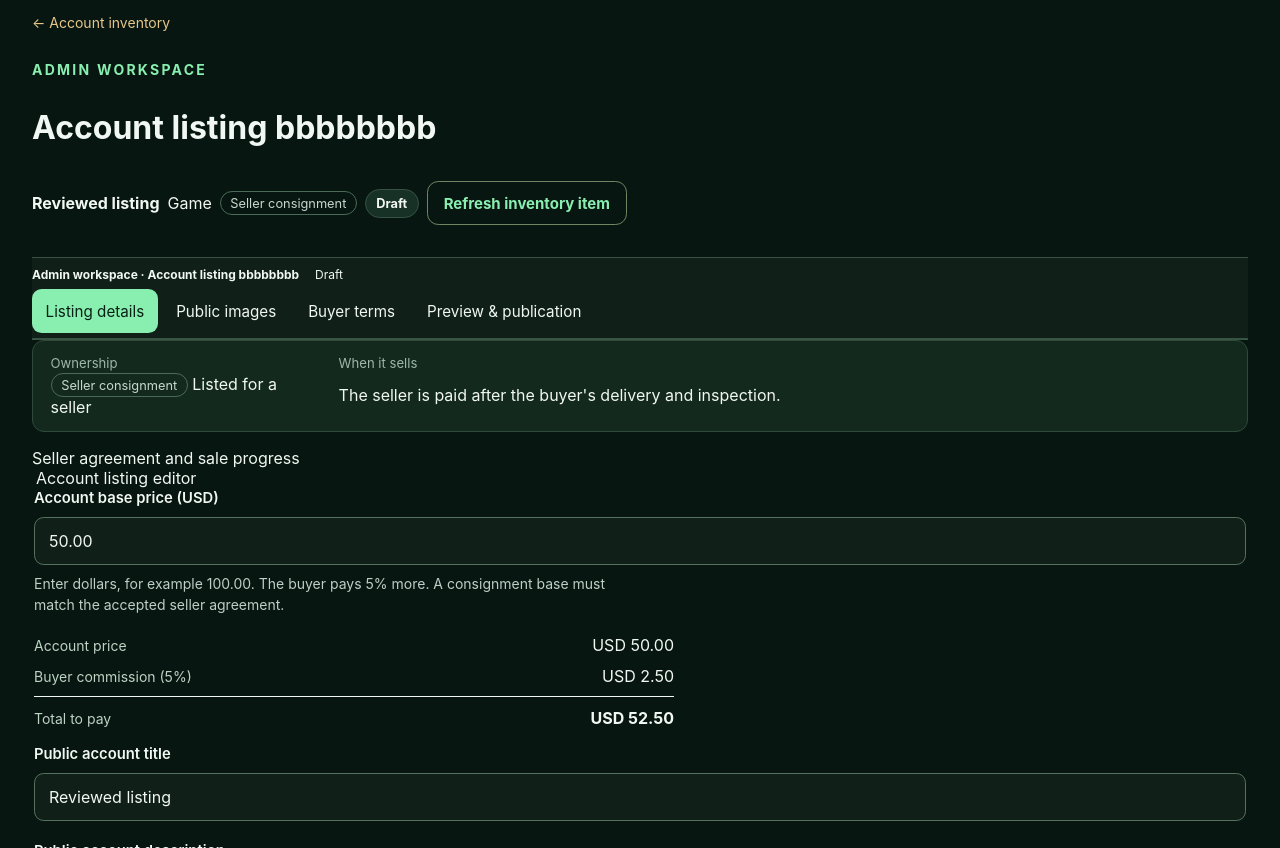
it: reveals the invalid listing section and preserves the other draft fields
Clear the field labelled "Public account title" at (640, 797), box x1=34 y1=773 x2=1246 y2=821
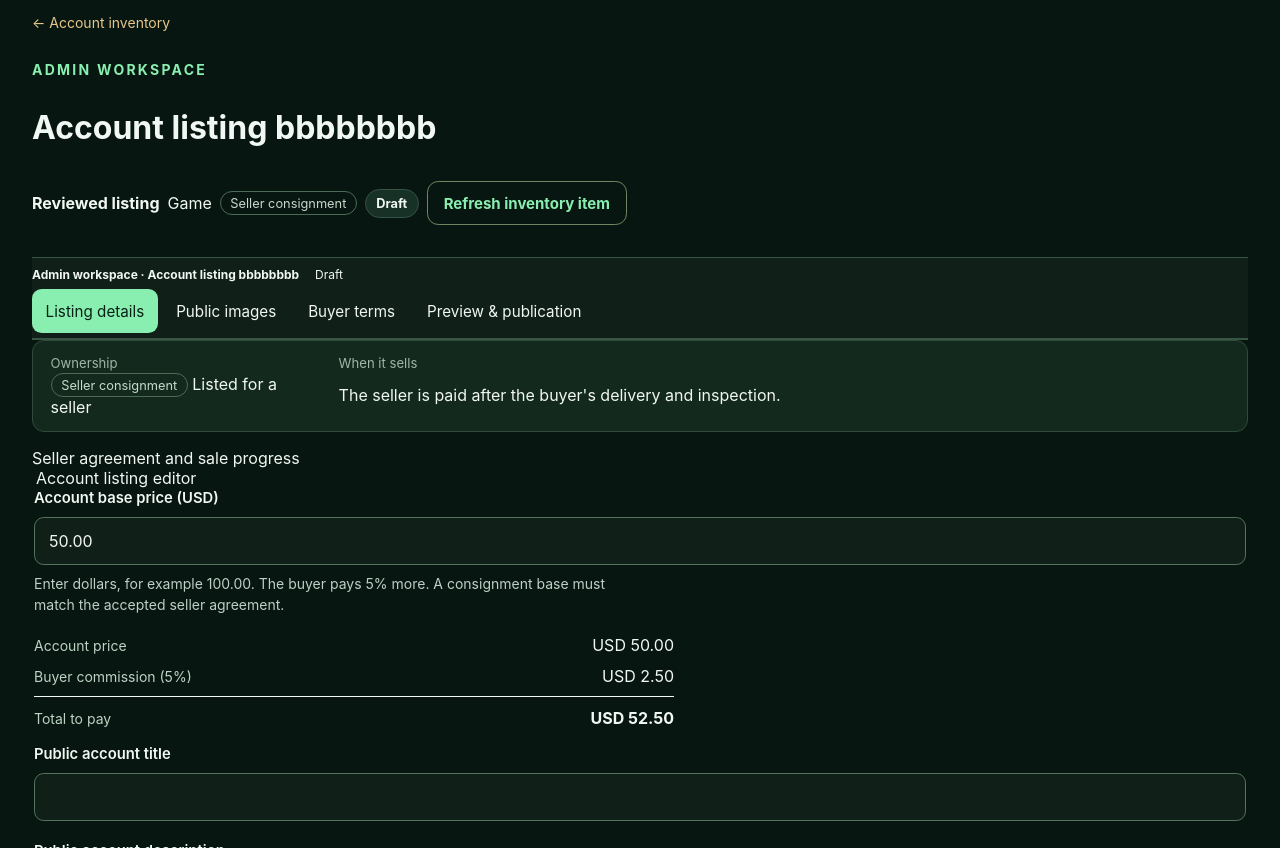
Click the link "Buyer terms" at (352, 311), box x1=308 y1=302 x2=395 y2=321
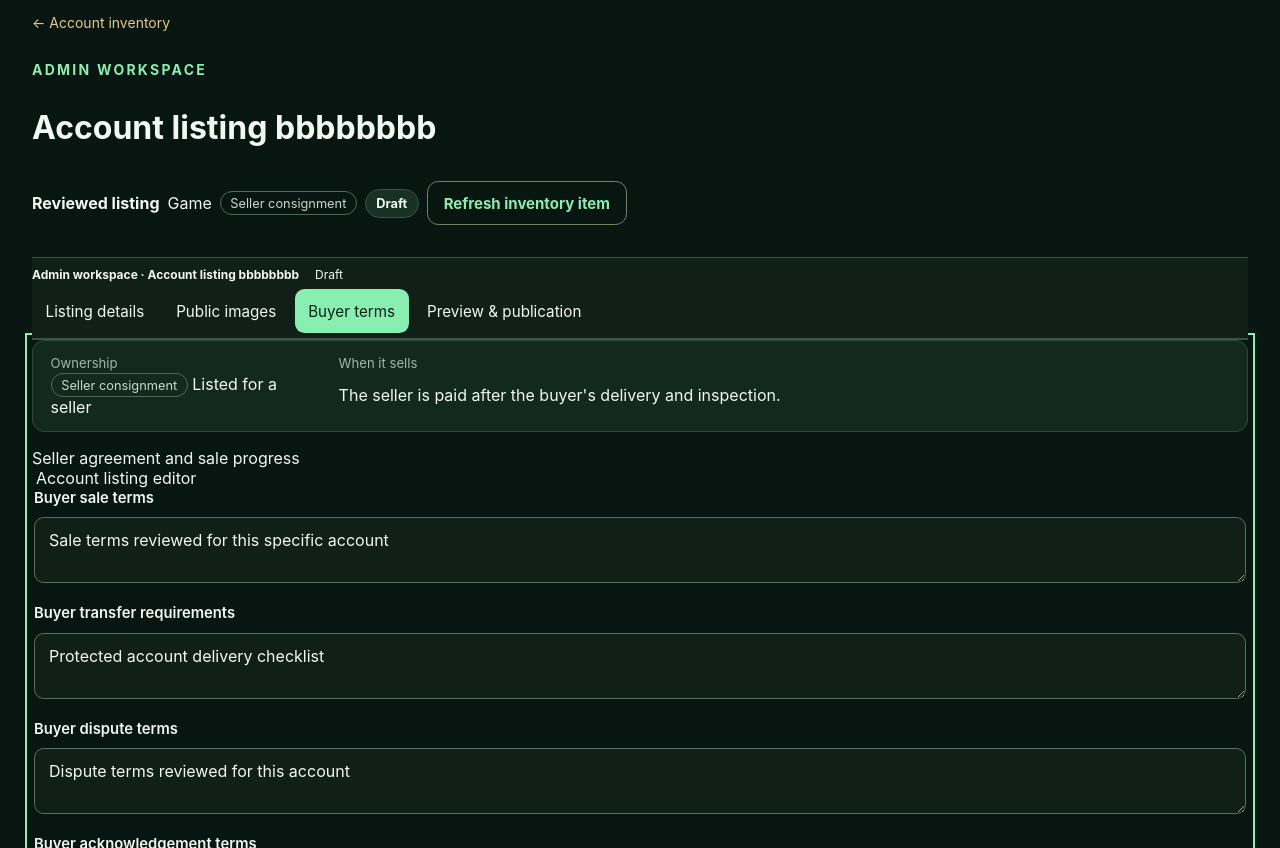
Replace the text in the text box labelled "Buyer sale terms" with "These terms stay while correcting the title." at (640, 550), box x1=34 y1=517 x2=1246 y2=583
(page scrolled)
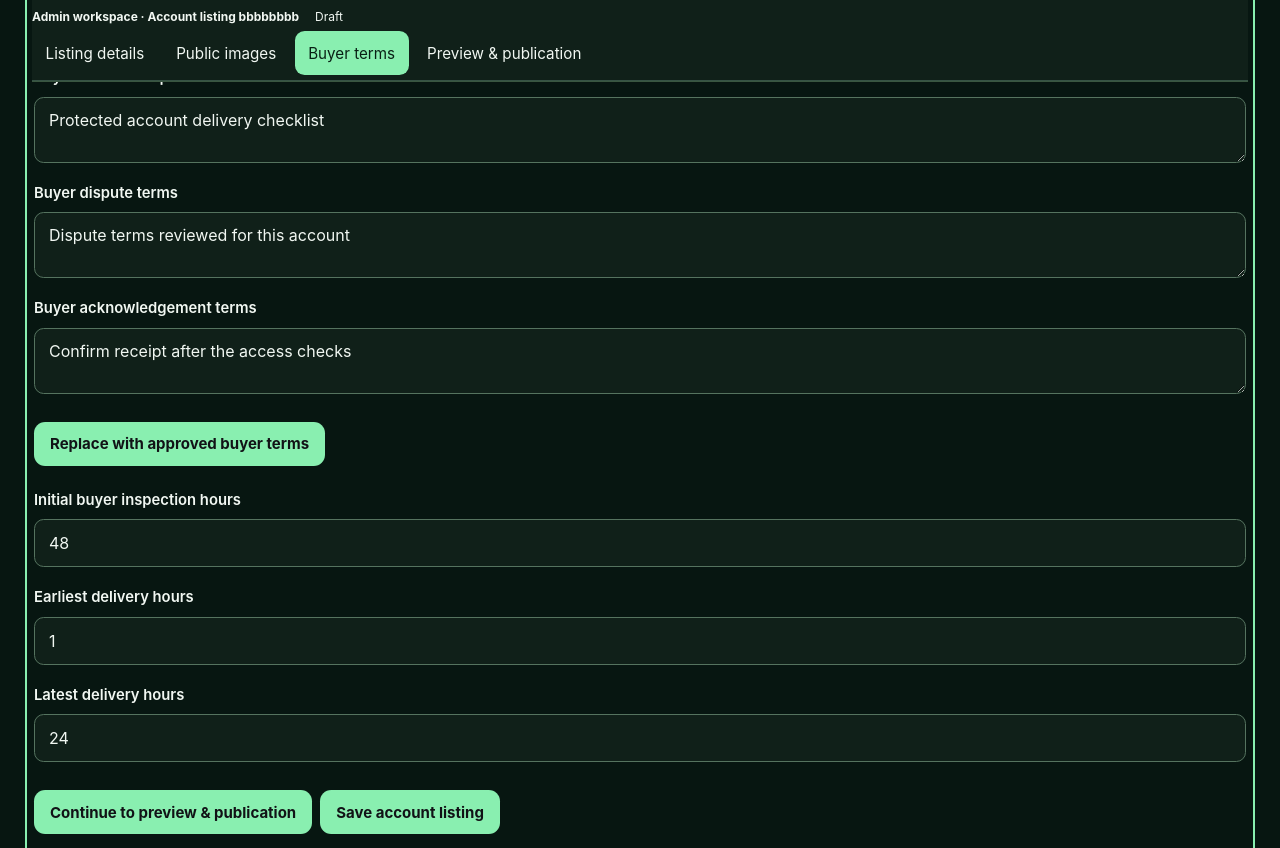
Click the button "Save account listing" at (410, 812), box x1=320 y1=790 x2=500 y2=834
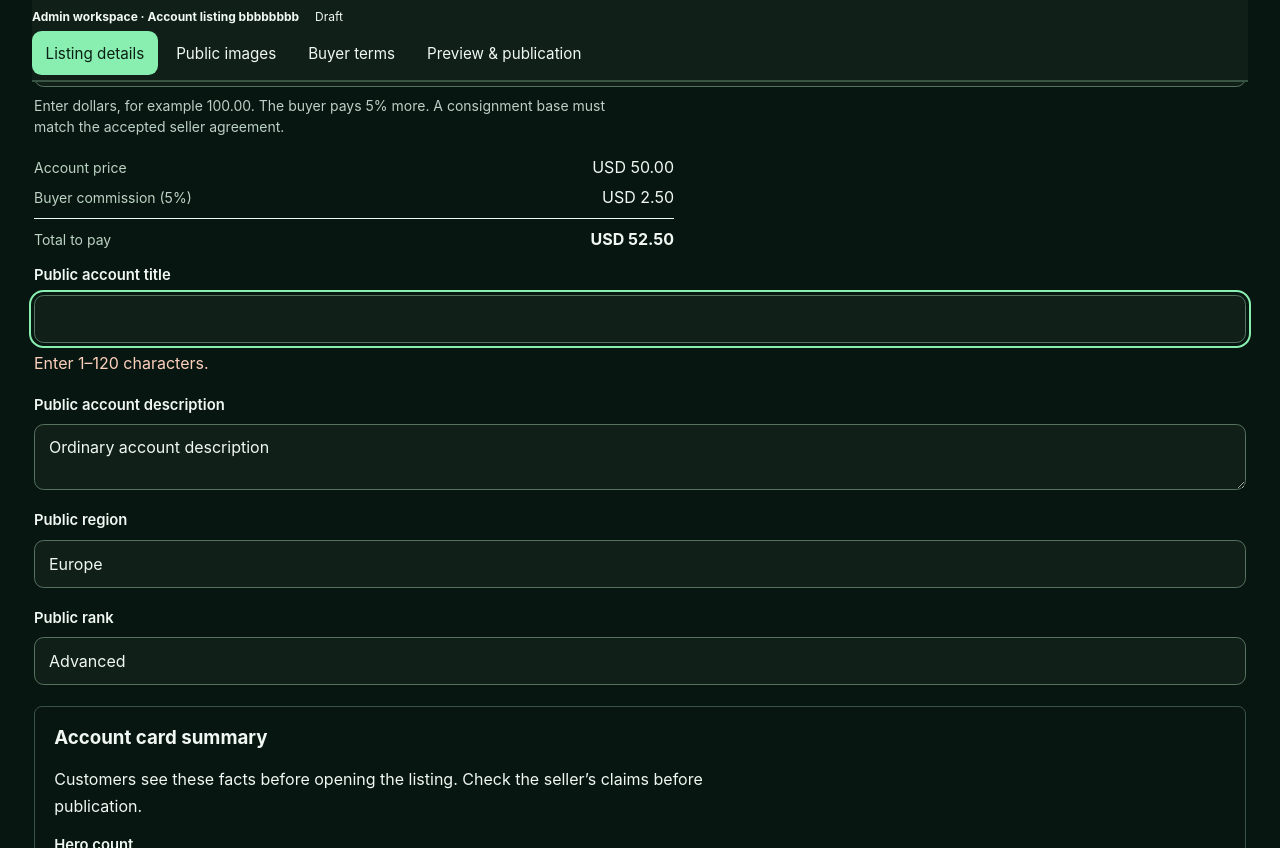
Click the link "Buyer terms" at (352, 53), box x1=308 y1=44 x2=395 y2=62
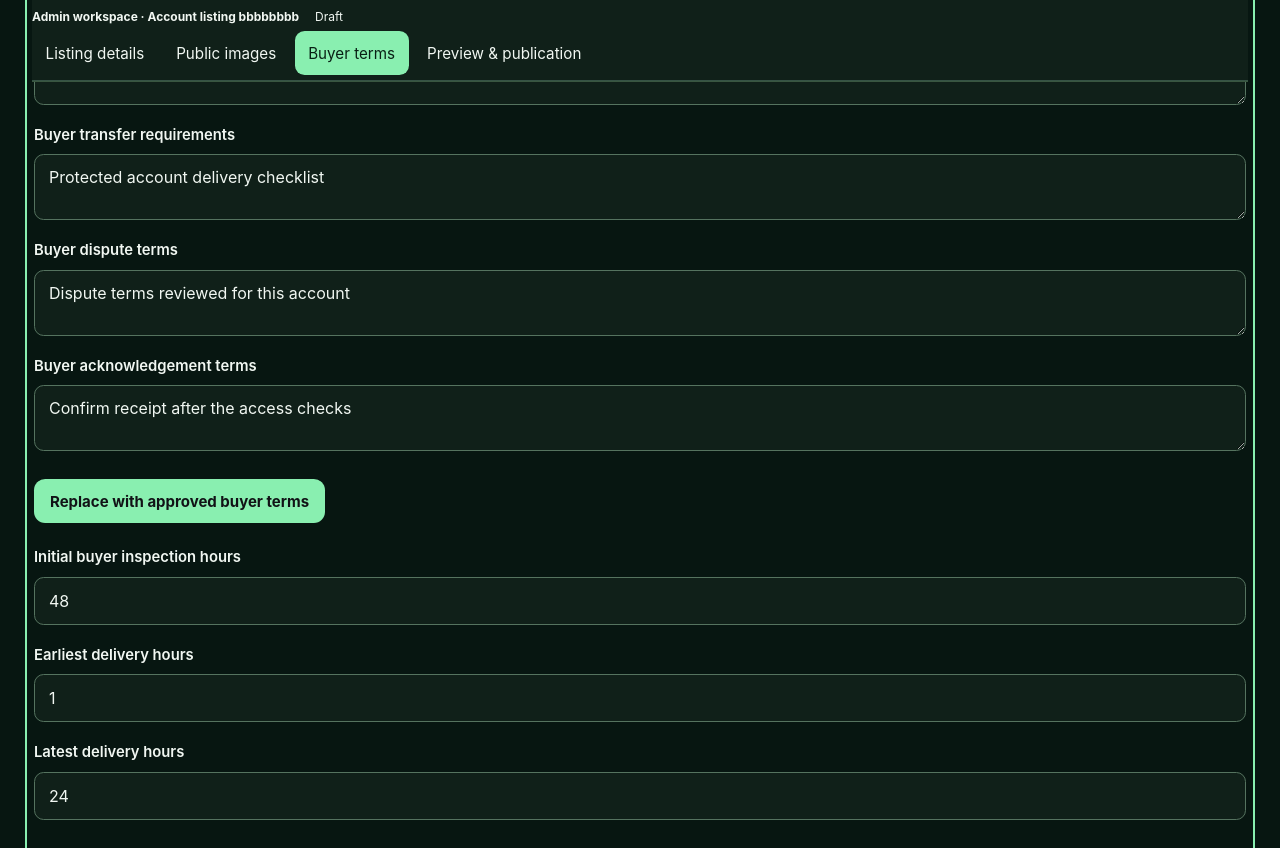
Check: the text box labelled "Buyer sale terms" holds "These terms stay while correcting the title.", box x1=34 y1=39 x2=1246 y2=105
